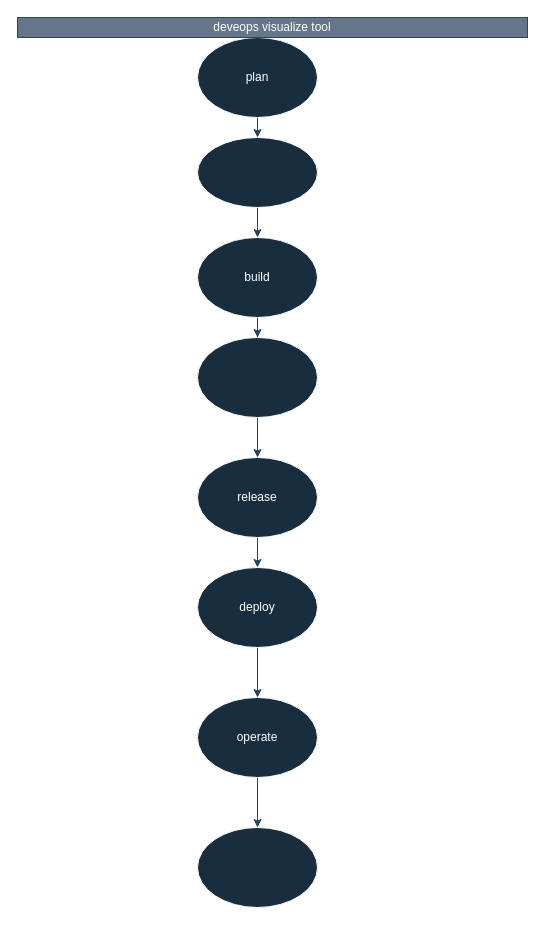
This 545x925 diagram has some shape labels left out. Each missing label, with the centre of its shape:
develop: [257,172]
monitor: [257,867]
test: [257,377]
